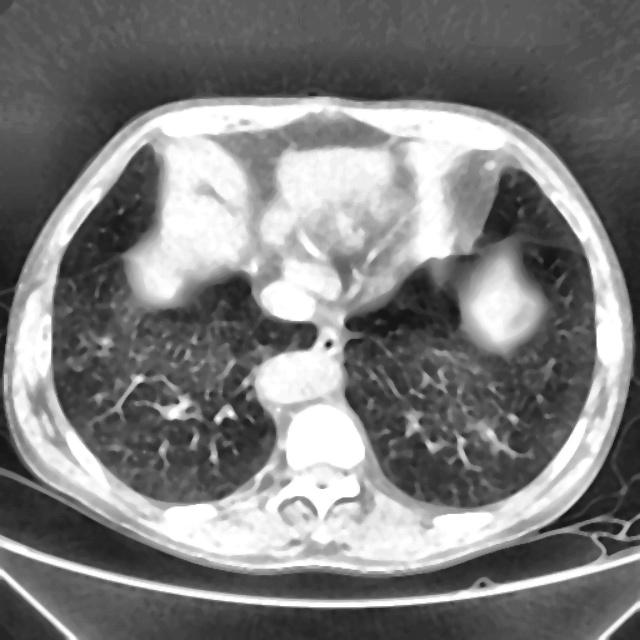covid: (2, 94, 634, 577)
